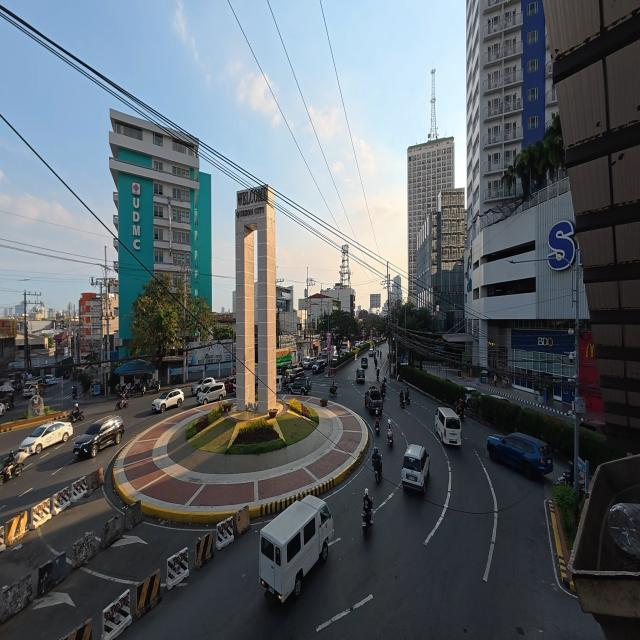car: (487, 433, 553, 479), (74, 416, 124, 457), (20, 421, 72, 454), (152, 389, 184, 412), (197, 382, 226, 404), (286, 377, 312, 395), (191, 377, 215, 395), (580, 420, 605, 434), (286, 367, 304, 381), (465, 387, 479, 402), (490, 394, 512, 403), (312, 359, 325, 373), (225, 377, 236, 393), (302, 357, 314, 369), (356, 368, 365, 383), (44, 375, 54, 384), (361, 357, 368, 368), (332, 355, 339, 366), (0, 403, 6, 415), (354, 341, 361, 348), (369, 349, 374, 357)
motorcycle: (0, 451, 28, 484), (557, 461, 574, 487), (557, 461, 574, 486), (362, 513, 372, 538), (373, 456, 382, 483), (69, 410, 84, 423), (115, 398, 128, 410), (148, 380, 161, 392), (457, 409, 465, 422), (387, 431, 393, 446), (72, 386, 78, 400), (329, 387, 337, 397), (375, 419, 380, 435), (380, 382, 386, 394), (405, 395, 410, 405), (400, 398, 404, 409), (381, 390, 385, 400), (377, 370, 379, 380)
trucks: (365, 386, 383, 415), (276, 349, 292, 373), (340, 340, 351, 355), (319, 353, 329, 366)
vans: (260, 496, 333, 601), (402, 445, 429, 492), (435, 407, 461, 446), (23, 383, 37, 397), (276, 375, 283, 393)
